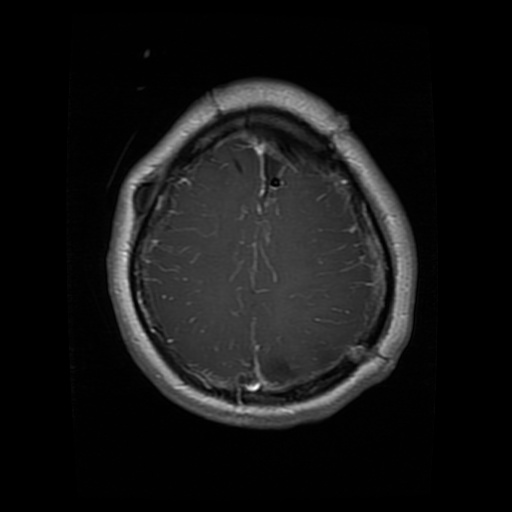glioma: (259, 353, 296, 384)
